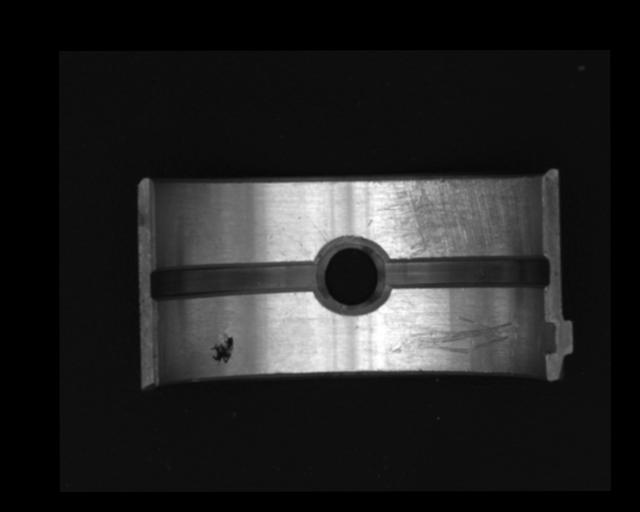blot: (209, 333, 234, 366)
gap: (145, 260, 322, 303), (382, 255, 551, 290)
hole: (315, 240, 390, 309)
nick: (389, 315, 514, 357), (304, 213, 329, 246)
scratch: (373, 176, 532, 258)
